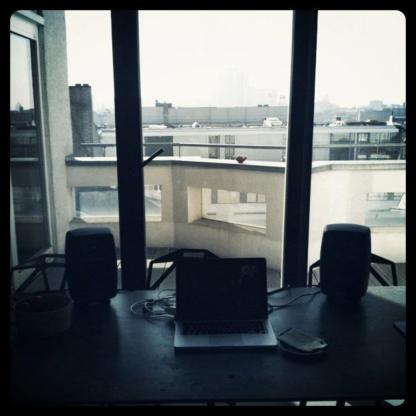board: (172, 254, 278, 352)
